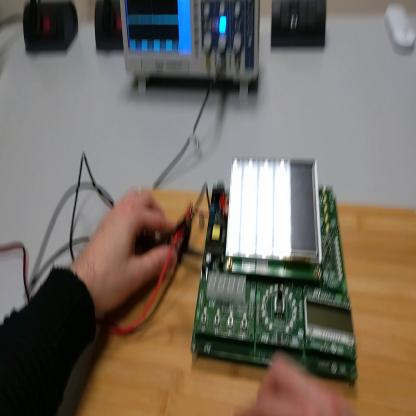hand: (79, 190, 178, 311), (246, 347, 352, 415)
low voltage board: (193, 157, 362, 384)
oscilloscope: (121, 2, 261, 100)
oscilloscope probe tip: (136, 237, 204, 267)
socket: (25, 2, 81, 56), (95, 2, 125, 52)
working area: (71, 191, 416, 415)
